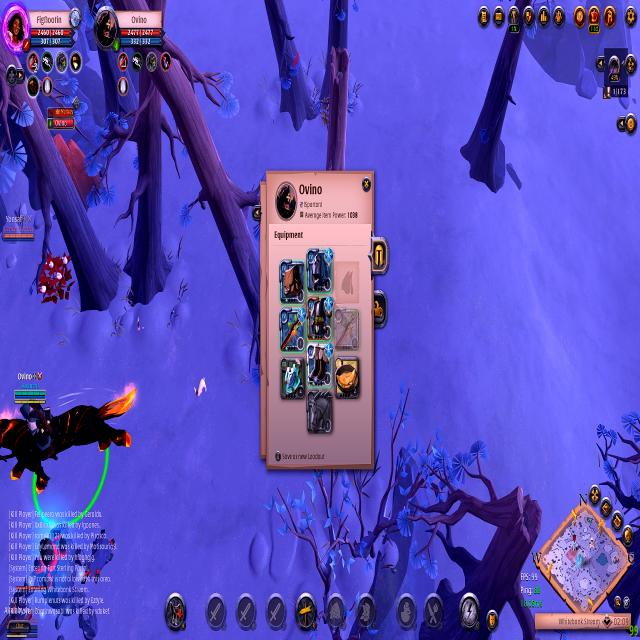hide: (29, 245, 82, 315)
ore: (20, 514, 120, 638)
red: (0, 362, 144, 524), (0, 206, 38, 252)
tree: (46, 131, 104, 219)
